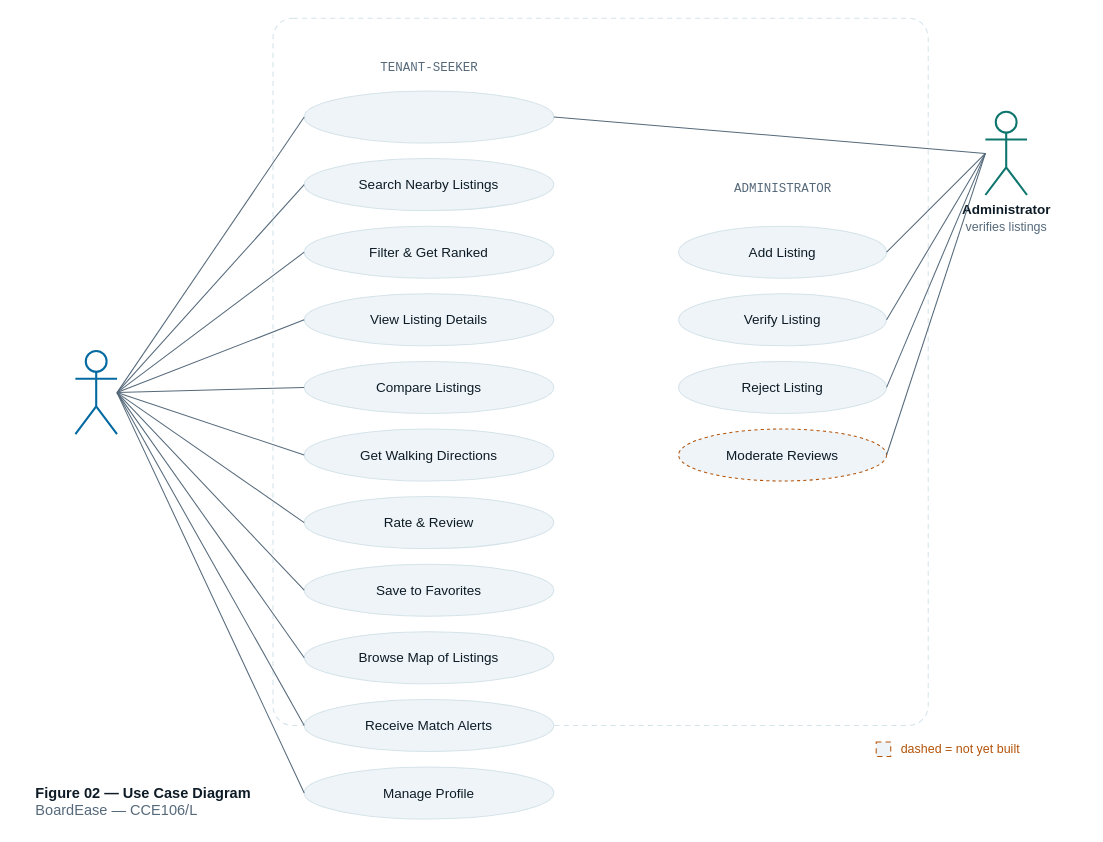
The diagram is 1103 pixels wide and 842 high, and some of its shapes have lost their labels. Each missing label, with the box of its shape:
BoardEase: (272, 17, 928, 725)
Register / Log In: (303, 90, 554, 143)
Tenant-Seeker student / young professional: (74, 349, 118, 435)
